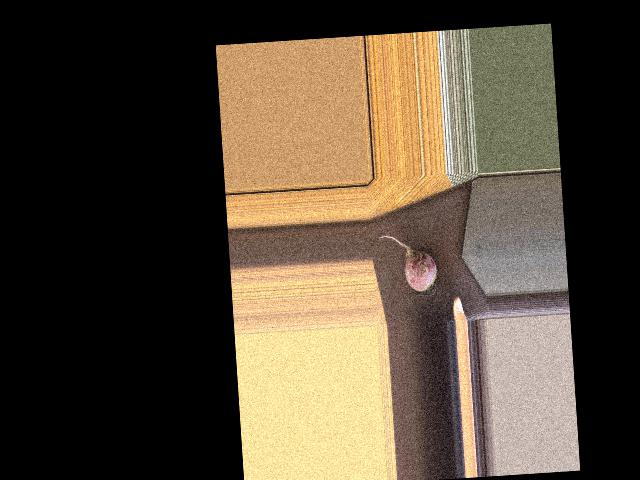beet: (379, 232, 438, 304)
